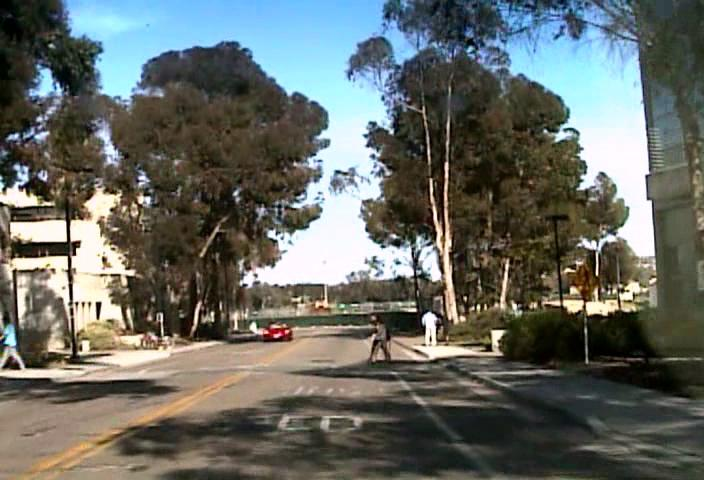pedestrianCrossing: (571, 262, 599, 299)
